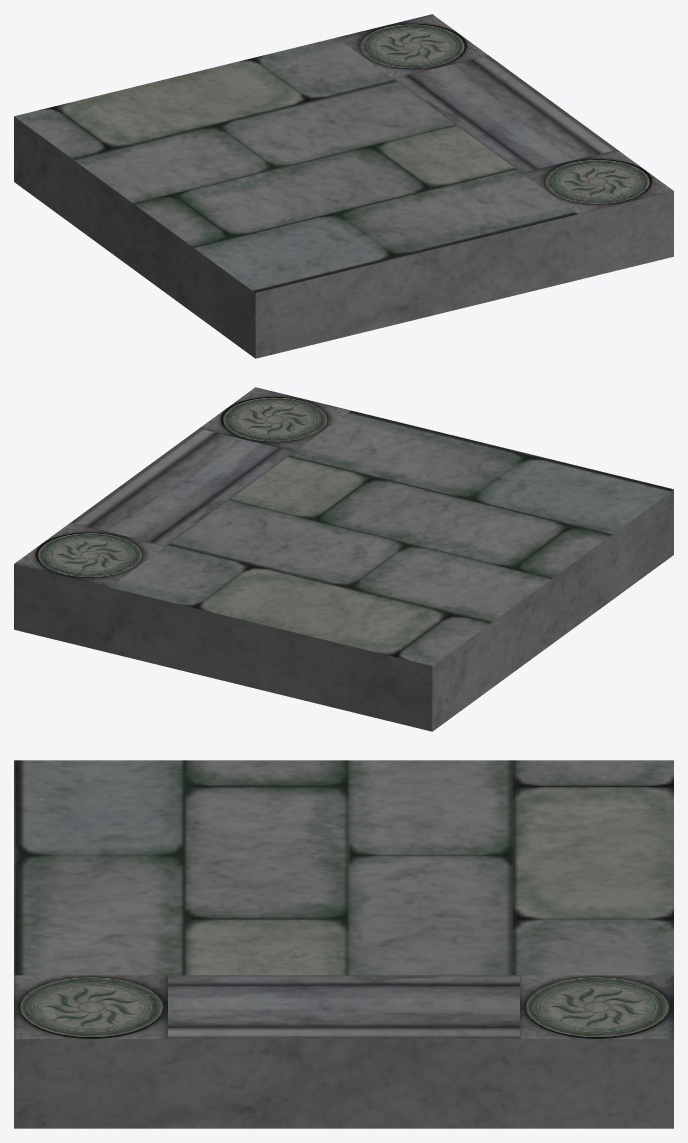
Rendered from floor_small_trim_R_01.glb.
The picture shows the model from 3 angles, top to bottom: view 1: azimuth 30°, elevation 25°; view 2: azimuth 150°, elevation 25°; view 3: azimuth 270°, elevation 25°; orthographic projection. The views are drawn at different scales.
Parts seen in each view (by area): view 1: floor_small_trim_R_01; view 2: floor_small_trim_R_01; view 3: floor_small_trim_R_01.
Boxes of the visible parts, left/top/right/bottom form: floor_small_trim_R_01: left=14, top=14, right=673, bottom=358; floor_small_trim_R_01: left=14, top=387, right=673, bottom=731; floor_small_trim_R_01: left=14, top=760, right=673, bottom=1128.
Bounding box in the file's own units: 2 × 0.3 × 2.
Materials: 1 (1 with a texture image).
